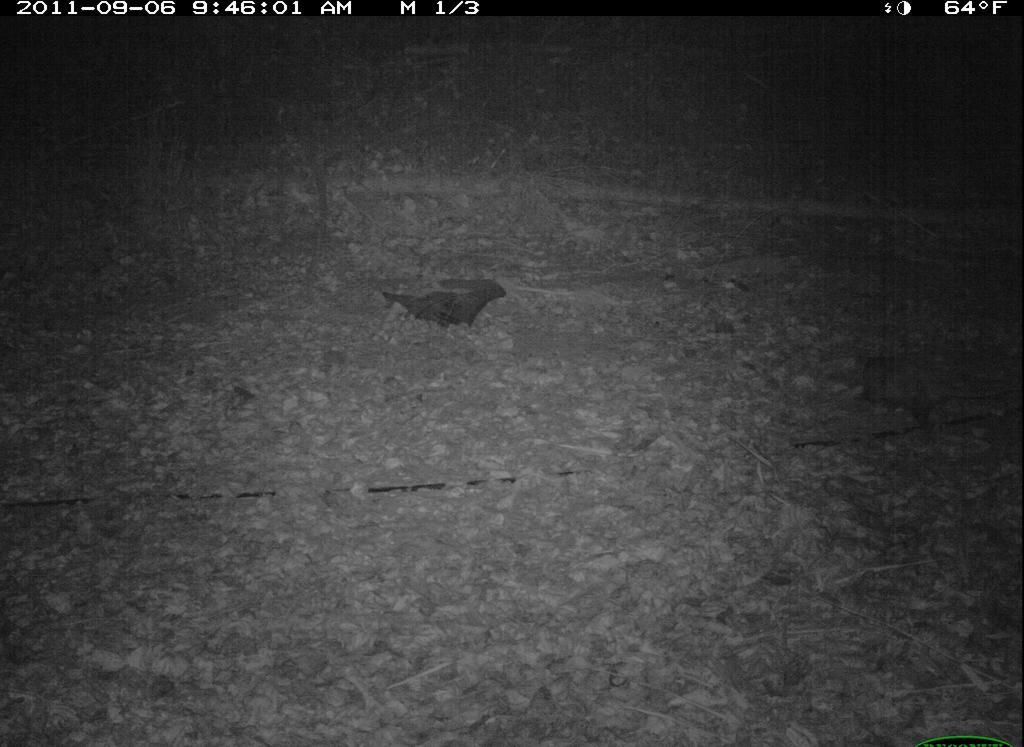opossum: (852, 345, 952, 438)
